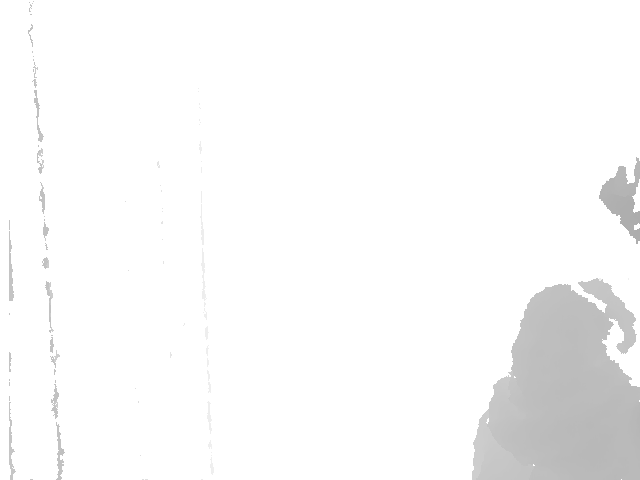head: (510, 278, 634, 382)
person: (471, 278, 640, 480)
